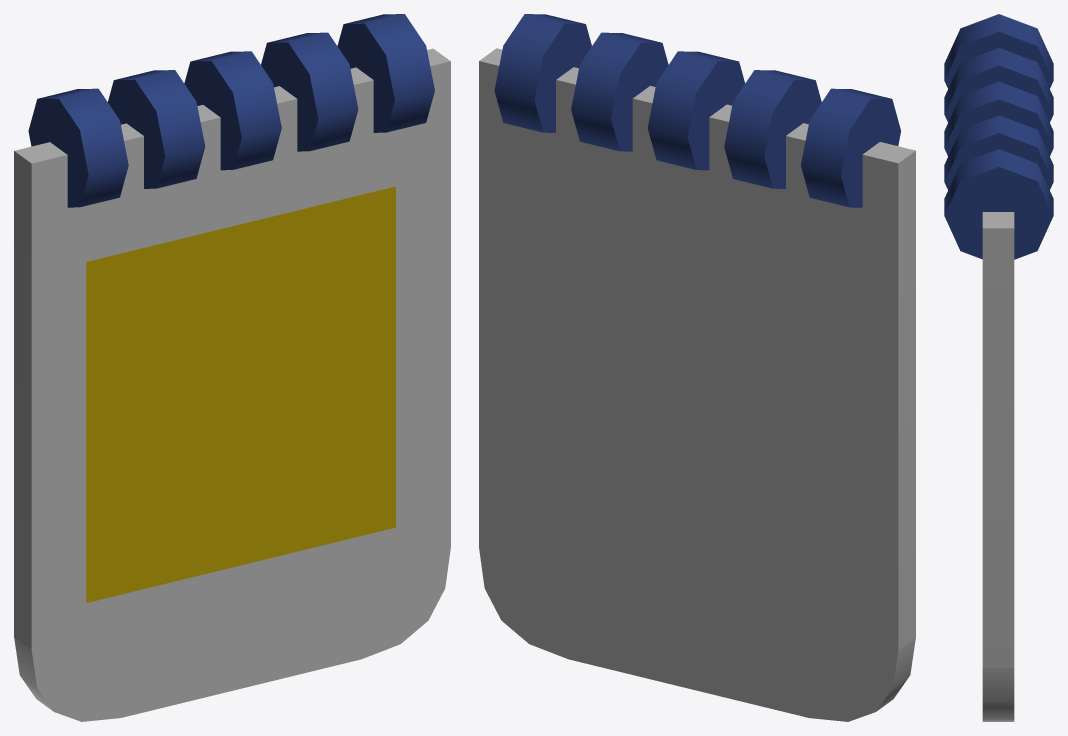
The model's file is gadget_notebook_01.fbx.
3 views of the same model, side by side, from view 1: azimuth 30°, elevation 25°; view 2: azimuth 150°, elevation 25°; view 3: azimuth 270°, elevation 25° (orthographic). The views are drawn at different scales.
Parts seen in each view (by area): view 1: gadget_notebook_01; view 2: gadget_notebook_01; view 3: gadget_notebook_01.
Part boxes in pixels (bbox=[...]): gadget_notebook_01: bbox=[14, 14, 450, 721]; gadget_notebook_01: bbox=[479, 14, 915, 721]; gadget_notebook_01: bbox=[944, 14, 1053, 721].
Bounding box in the file's own units: 33.82 × 48.26 × 8.43.
